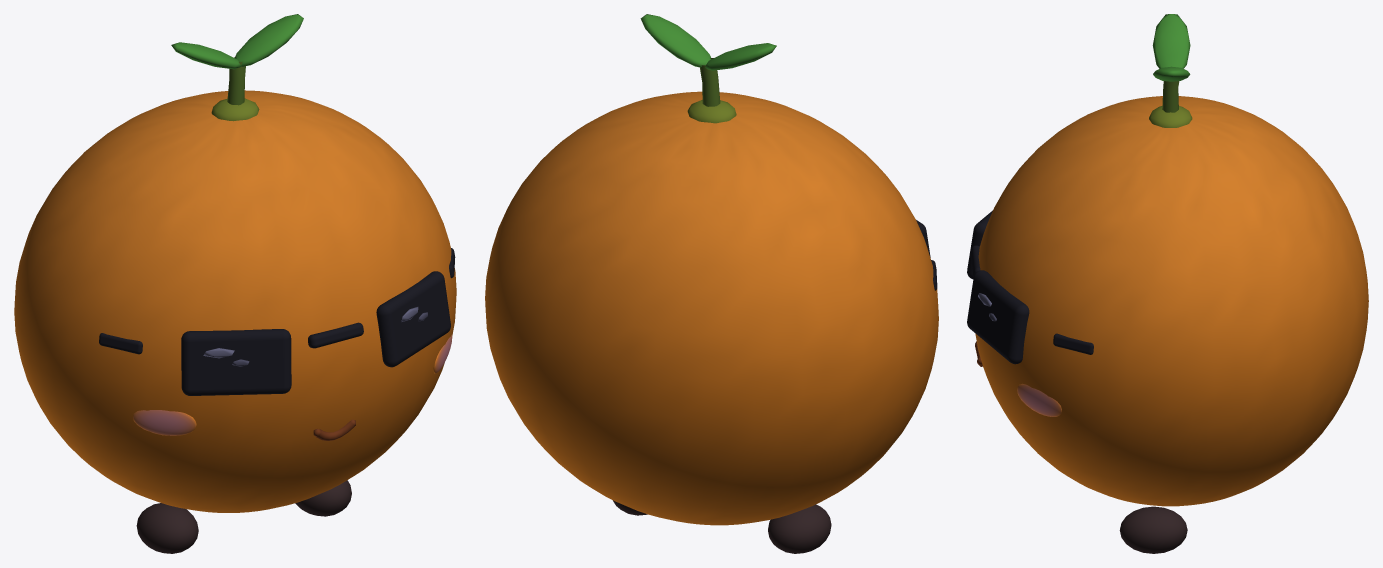
The model's file is folk_clementine.glb.
The picture shows the model from 3 angles, left to right: view 1: azimuth 30°, elevation 25°; view 2: azimuth 150°, elevation 25°; view 3: azimuth 270°, elevation 25°; orthographic projection. The views are drawn at different scales.
Parts seen in each view (by area): view 1: clementine_body, clementine_foot_l, clementine_foot_r; view 2: clementine_body, clementine_foot_l; view 3: clementine_body, clementine_foot_r.
Boxes of the visible parts, x1,y1,x2,y2 form: clementine_body: (14, 14, 456, 512); clementine_foot_l: (136, 503, 198, 553); clementine_foot_r: (295, 480, 351, 516); clementine_body: (485, 14, 938, 525); clementine_foot_l: (768, 504, 831, 553); clementine_body: (967, 14, 1368, 506); clementine_foot_r: (1119, 506, 1187, 553).
Size of the model in its own units: 0.9522 by 1.15 by 0.8813.
